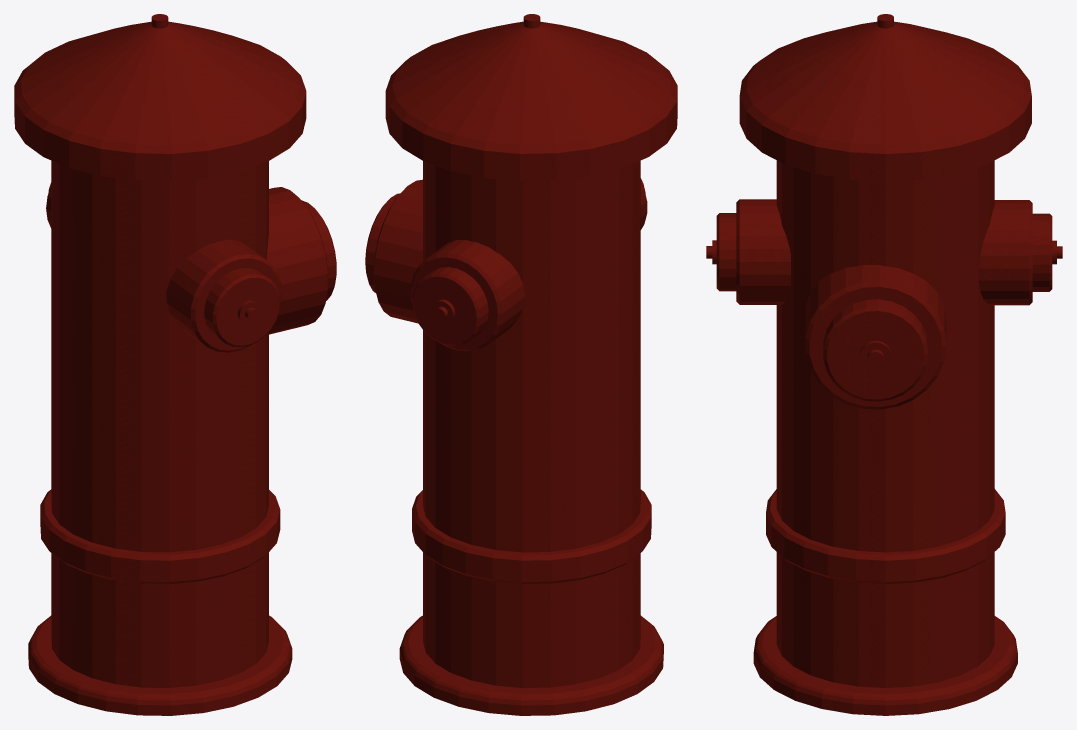
Rendered from xfs.gltf.
3 views of the same model, side by side, from view 1: azimuth 30°, elevation 25°; view 2: azimuth 150°, elevation 25°; view 3: azimuth 270°, elevation 25° (orthographic).
Parts seen in each view (by area): view 1: JZYXFSMX001; view 2: JZYXFSMX001; view 3: JZYXFSMX001.
Part boxes in pixels (x1,y1,x2,y2): JZYXFSMX001: [14, 14, 336, 715]; JZYXFSMX001: [365, 14, 677, 715]; JZYXFSMX001: [706, 14, 1062, 715].
Bounding box in the file's own units: 0.3442 × 0.7491 × 0.3764.
1 material, 1 textured.
